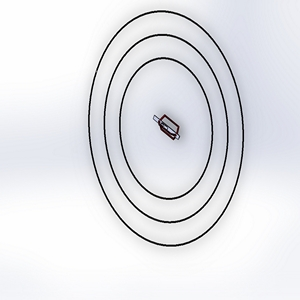circle: (83, 5, 250, 254)
submarine: (147, 106, 188, 154)
